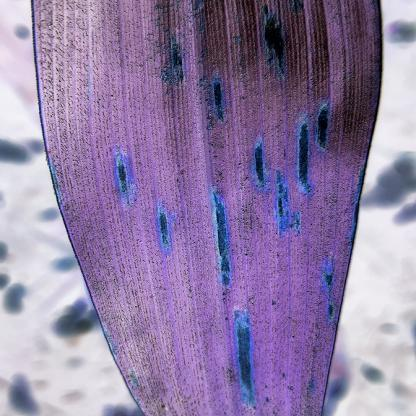Corn leaf blight: (27, 3, 388, 416)
